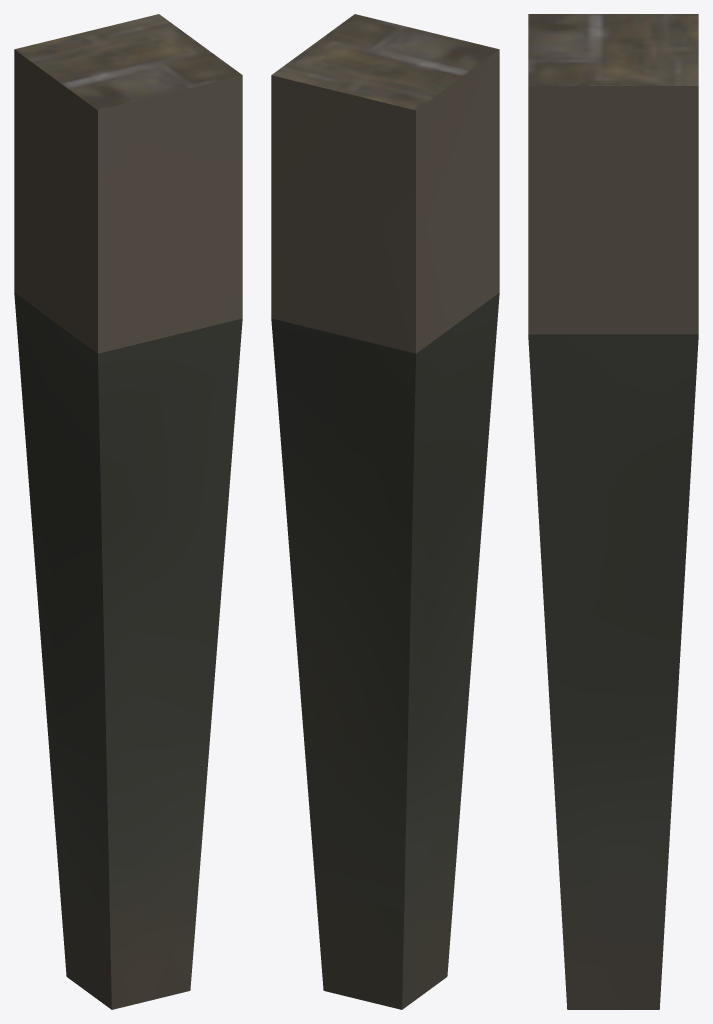
Rendered from Torch.glb.
3 views of the same model, side by side, from view 1: azimuth 30°, elevation 25°; view 2: azimuth 150°, elevation 25°; view 3: azimuth 270°, elevation 25° (orthographic). The views are drawn at different scales.
Visible parts, largest first — view 1: Torch; view 2: Torch; view 3: Torch.
Part boxes in pixels (<box>): Torch: <box>14,14,242,1009</box>; Torch: <box>271,14,499,1009</box>; Torch: <box>528,14,698,1009</box>.
Bounding box in the file's own units: 0.2 × 1.22 × 0.2.
1 material, 1 textured.
